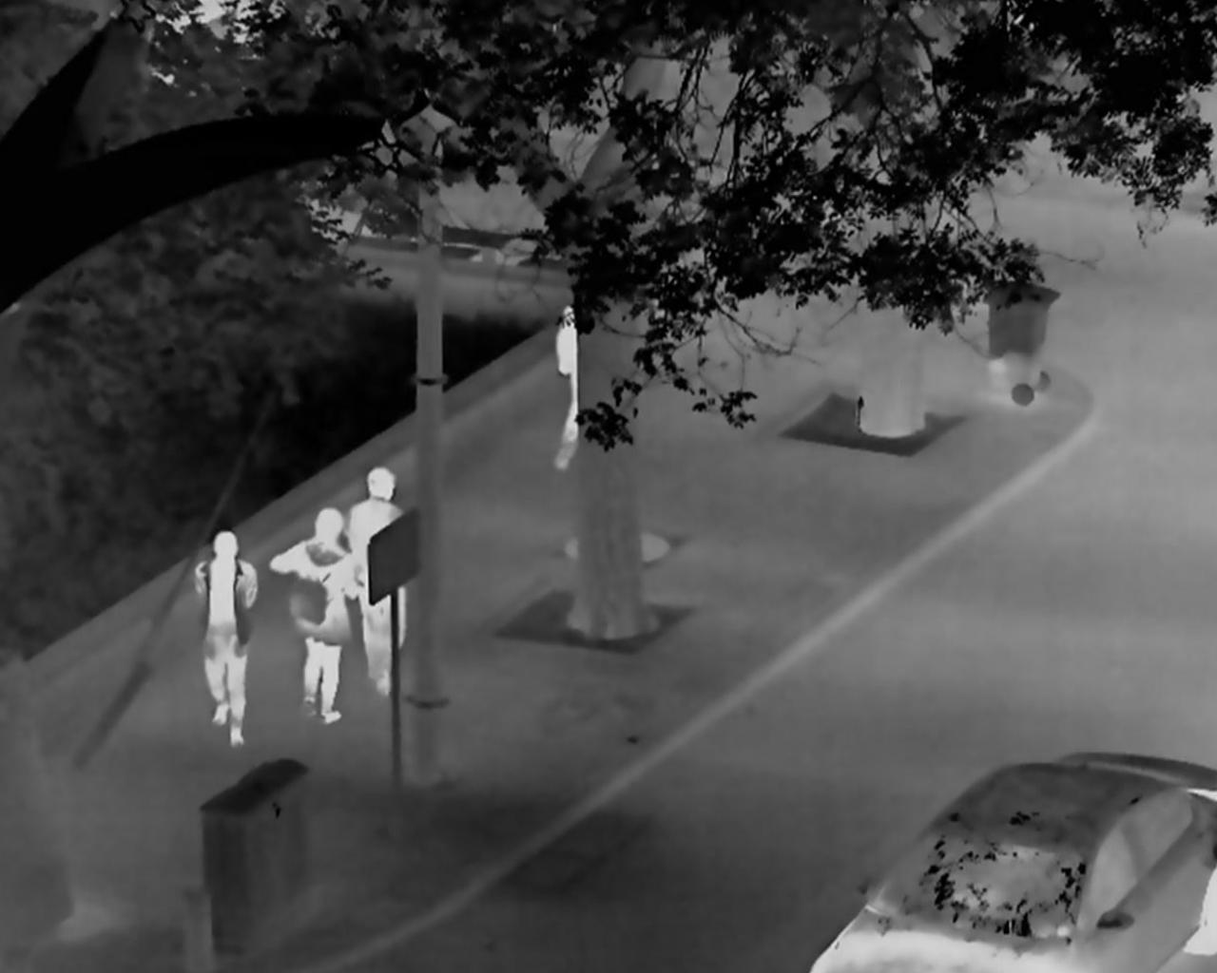person: (268, 506, 353, 723), (345, 466, 407, 696), (193, 529, 258, 747), (554, 299, 580, 471)
